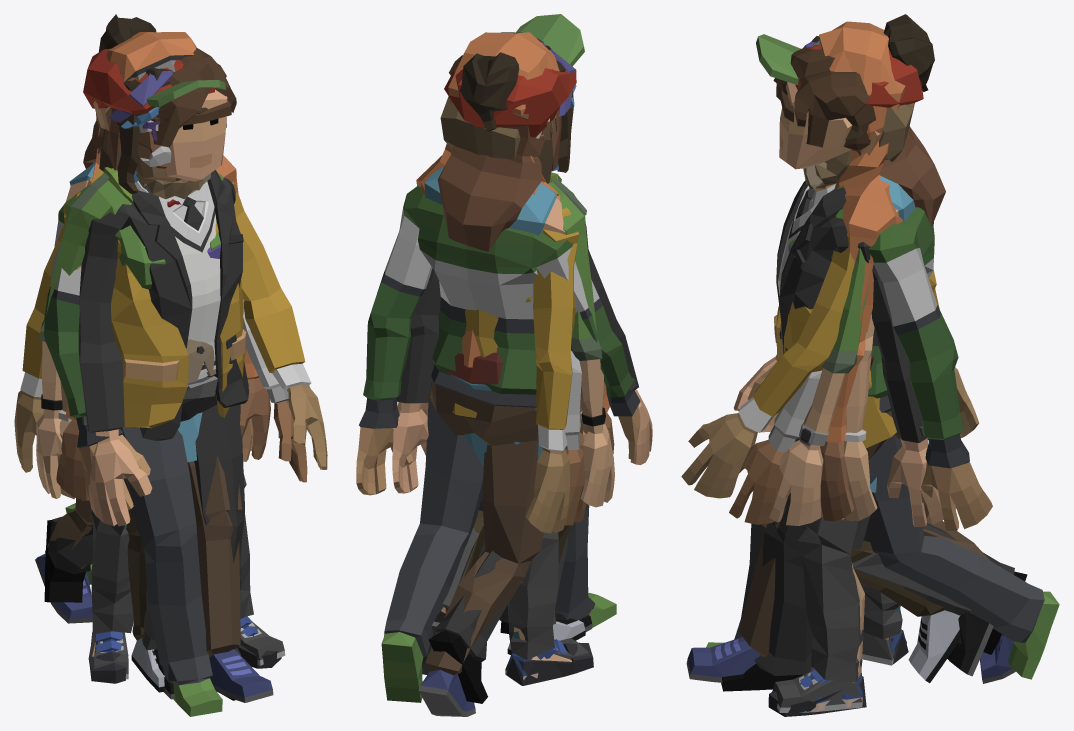
Rendered from human-characters-poses-1.glb.
The picture shows the model from 3 angles, left to right: view 1: azimuth 30°, elevation 25°; view 2: azimuth 150°, elevation 25°; view 3: azimuth 270°, elevation 25°; orthographic projection. The views are drawn at different scales.
Parts seen in each view (by area): view 1: Character_1, Character_5, Character_6, Character_4, Character_7, Character_2, Character_3, Character_8; view 2: Character_6, Character_5, Character_3, Character_1, Character_4, Character_2, Character_7, Character_8; view 3: Character_1, Character_5, Character_4, Character_6, Character_7, Character_2, Character_3, Character_8.
Boxes of the visible parts, <box> form: Character_1: <box>44,48,249,700</box>; Character_5: <box>14,115,327,716</box>; Character_6: <box>35,172,273,702</box>; Character_4: <box>56,32,285,679</box>; Character_7: <box>36,70,280,692</box>; Character_2: <box>83,48,307,699</box>; Character_3: <box>57,71,281,683</box>; Character_8: <box>94,14,258,653</box>; Character_6: <box>356,96,640,716</box>; Character_5: <box>381,121,616,702</box>; Character_3: <box>397,69,608,685</box>; Character_1: <box>392,32,652,703</box>; Character_4: <box>416,14,614,685</box>; Character_2: <box>422,60,592,674</box>; Character_7: <box>460,41,614,654</box>; Character_8: <box>421,45,586,679</box>; Character_1: <box>721,47,1027,691</box>; Character_5: <box>681,189,1059,679</box>; Character_4: <box>756,21,906,712</box>; Character_6: <box>686,103,1015,683</box>; Character_7: <box>769,41,960,682</box>; Character_2: <box>729,45,993,676</box>; Character_3: <box>768,126,945,716</box>; Character_8: <box>799,14,934,711</box>.
Bounding box in the file's own units: 0.6965 × 1.89 × 0.9804.
Materials: 1 (1 with a texture image).
